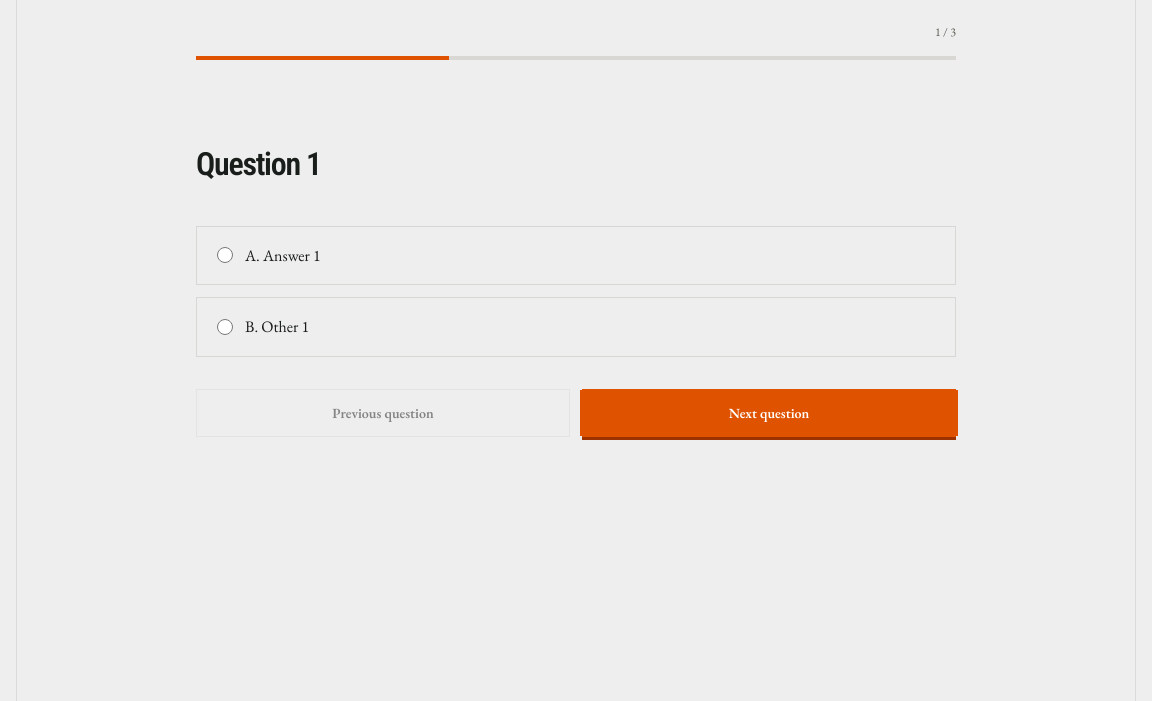
shows only unique missed concepts from the submitted attempt (passed: true)
The width and height of the screenshot is (1152, 701).
Expected: the heading "Question 1" is shown, [196,145,321,183]
What coordinates should you click on to do the following:
click the radio button labelled "A. Answer 1"
I would click on:
 (225, 255)
Its box is [217,247,233,263].
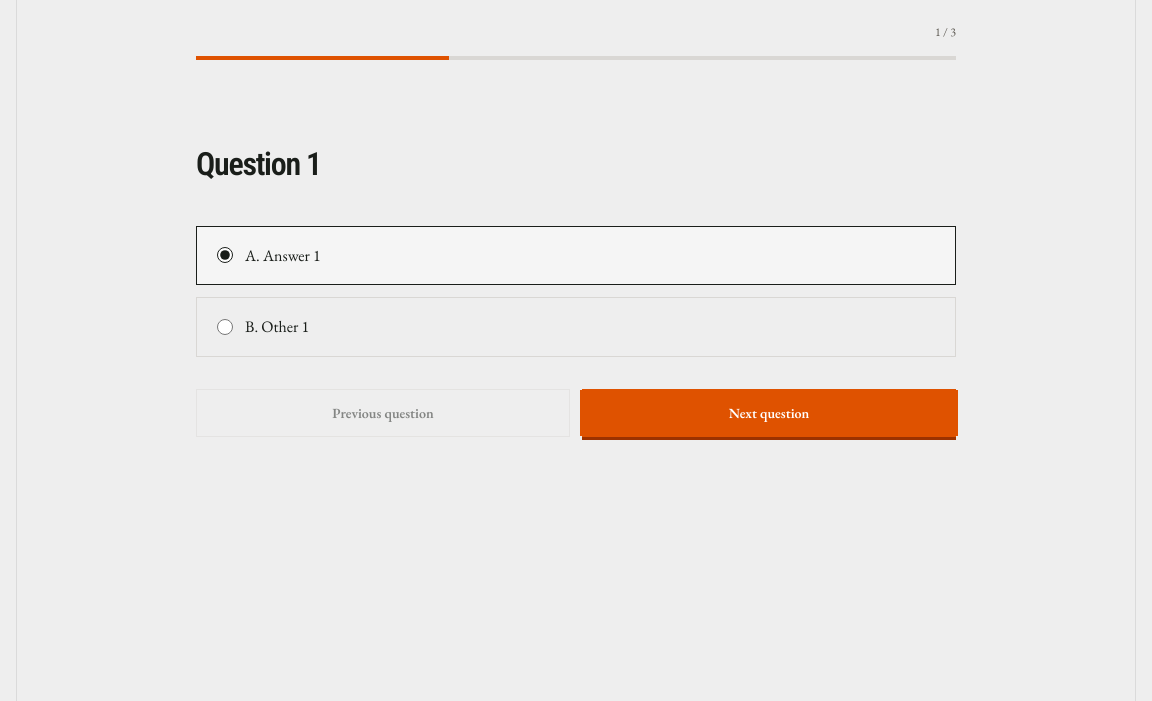
What coordinates should you click on to do the following:
click the button "Next question"
I would click on:
 (769, 413)
Its box is [582,389,956,437].
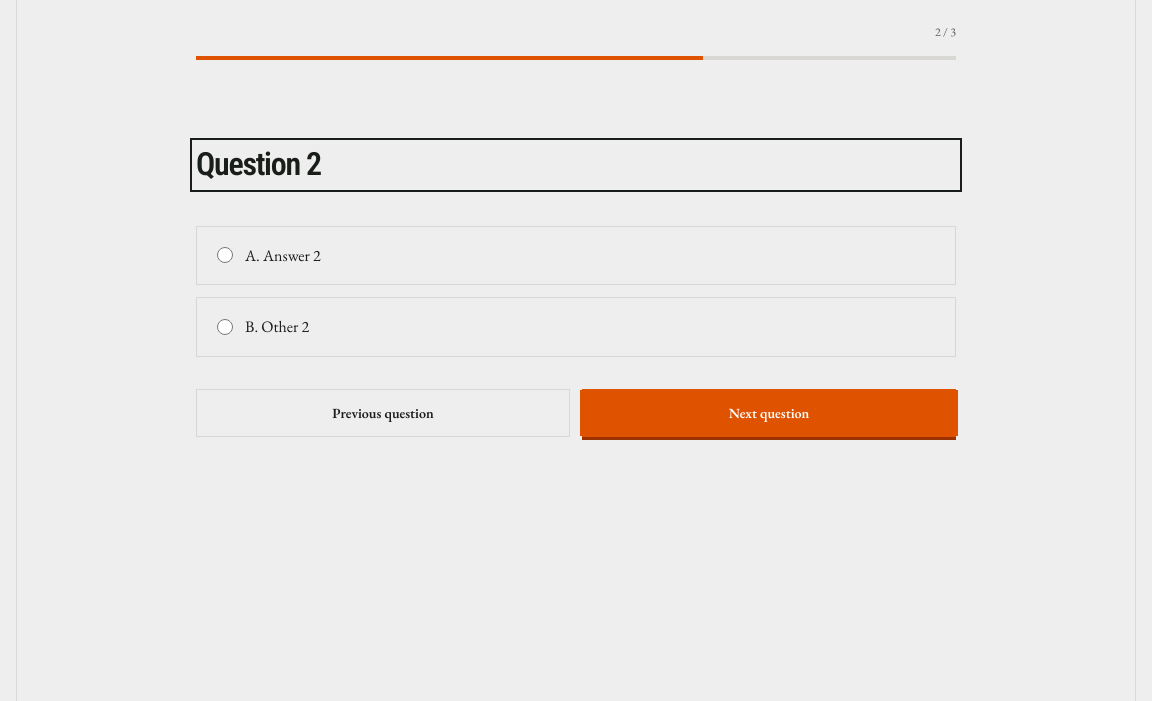
What coordinates should you click on to do the following:
click the radio button labelled "A. Answer 2"
I would click on:
 (225, 255)
Its box is [217,247,233,263].
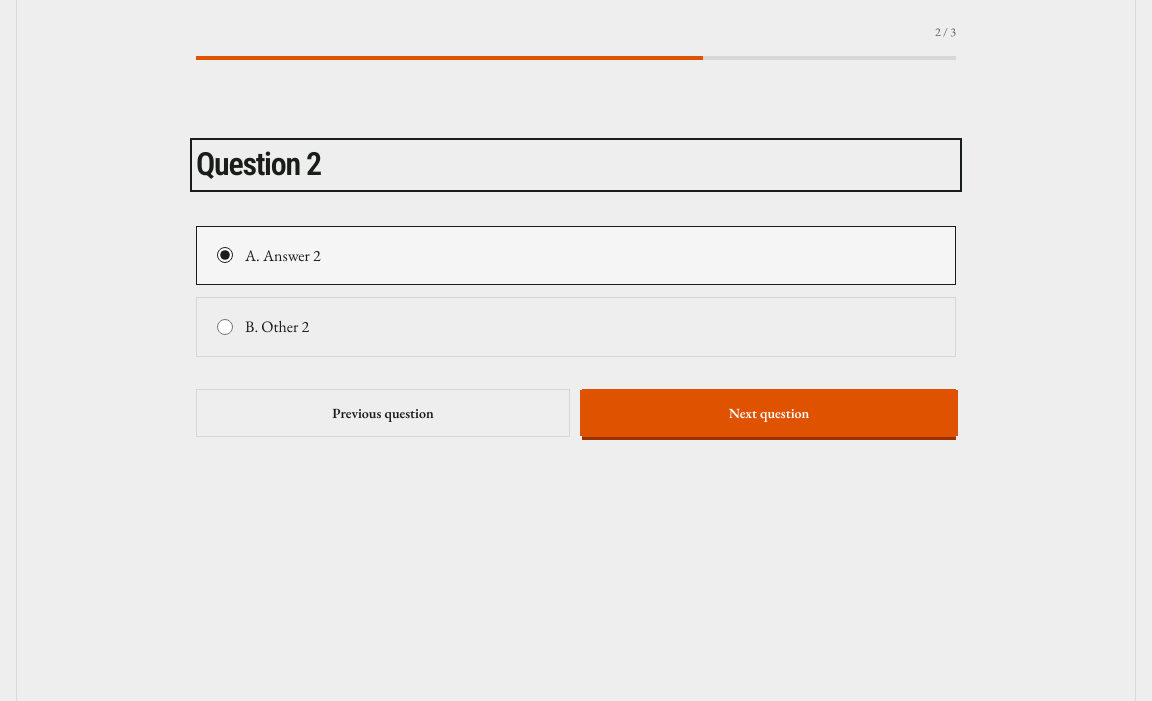
What coordinates should you click on to do the following:
click the button "Next question"
I would click on:
 (769, 413)
Its box is [582,389,956,437].
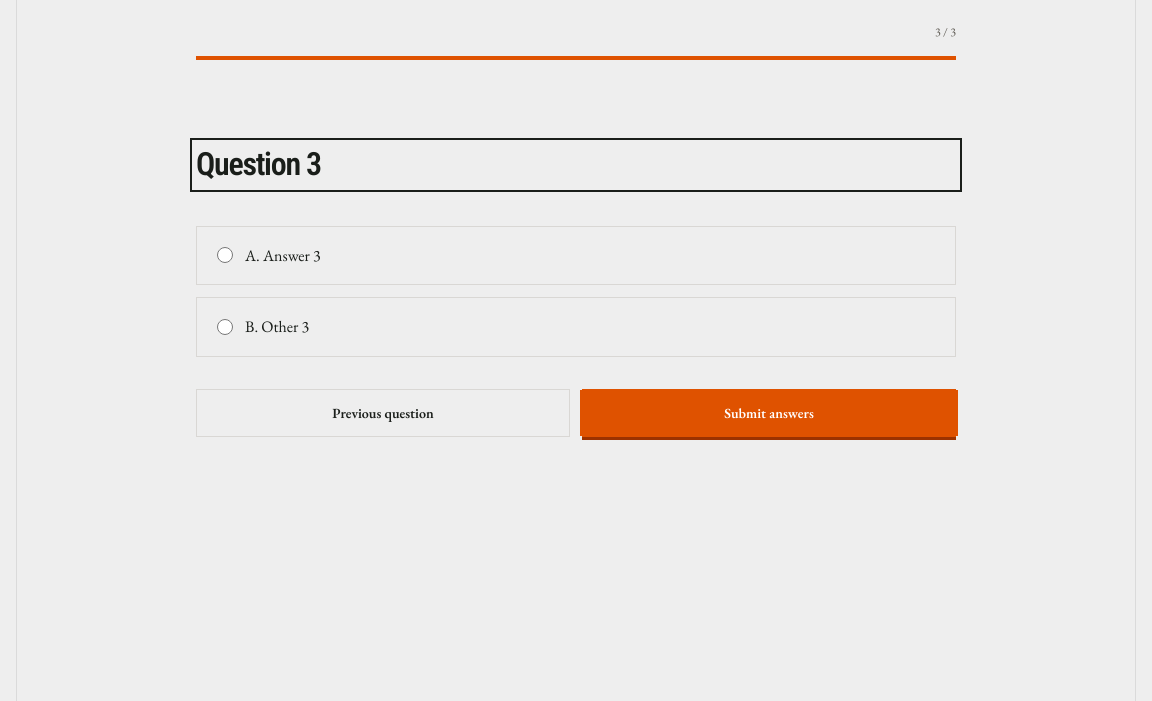
What coordinates should you click on to do the following:
click the radio button labelled "A. Answer 3"
I would click on:
 (225, 255)
Its box is [217,247,233,263].
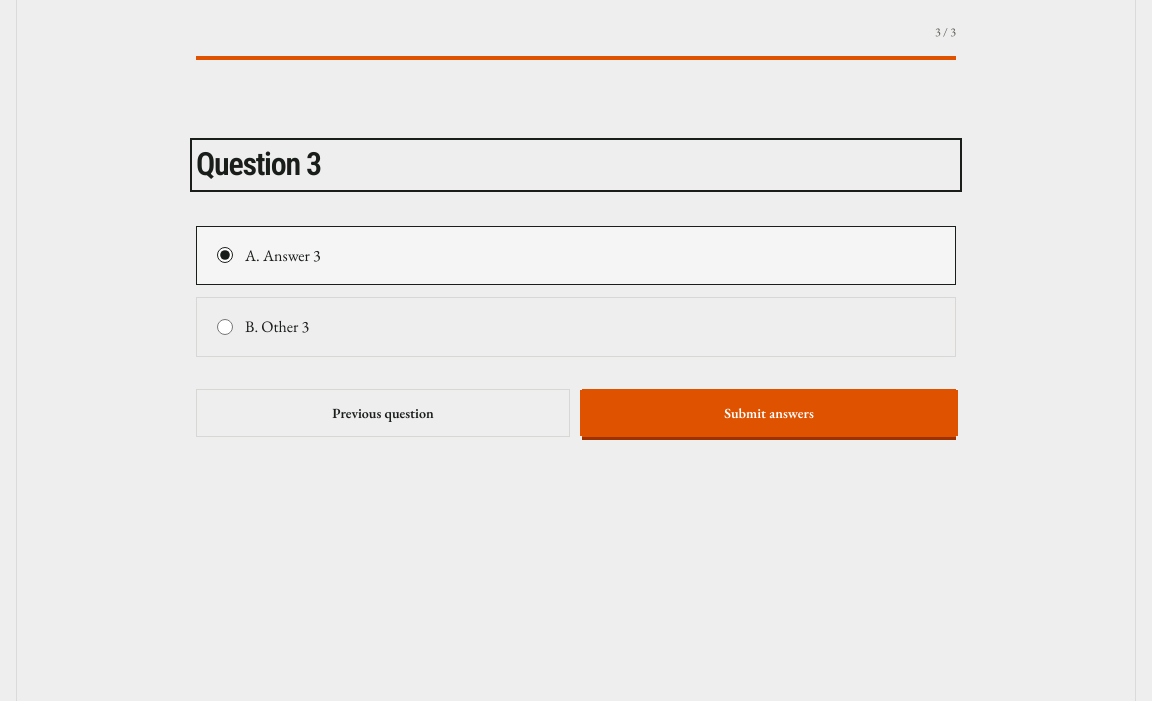
What coordinates should you click on to do the following:
click the button "Submit answers"
I would click on:
 (769, 413)
Its box is [582,389,956,437].
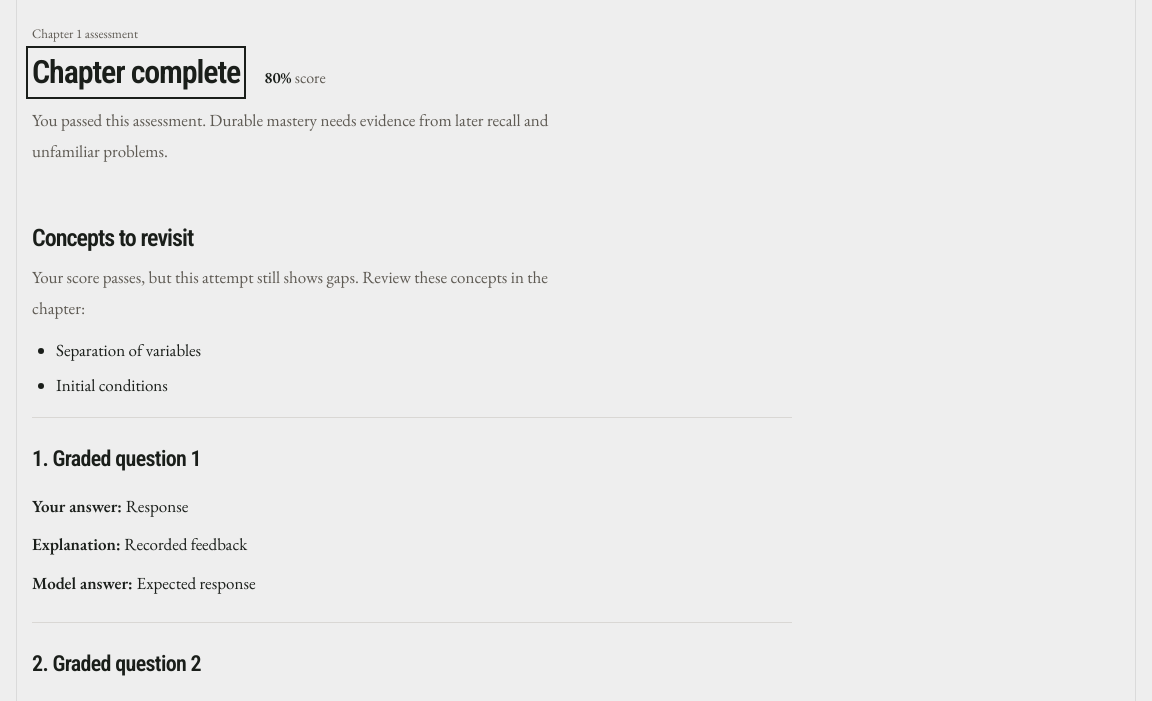
Expected: the number of list items is 2, [56,340,201,362]; [56,374,168,396]
Expected: the element "Concepts to revisit" shows "Separation of variables", [56,340,201,362]
Expected: the element "Concepts to revisit" shows "Initial conditions", [56,374,168,396]
